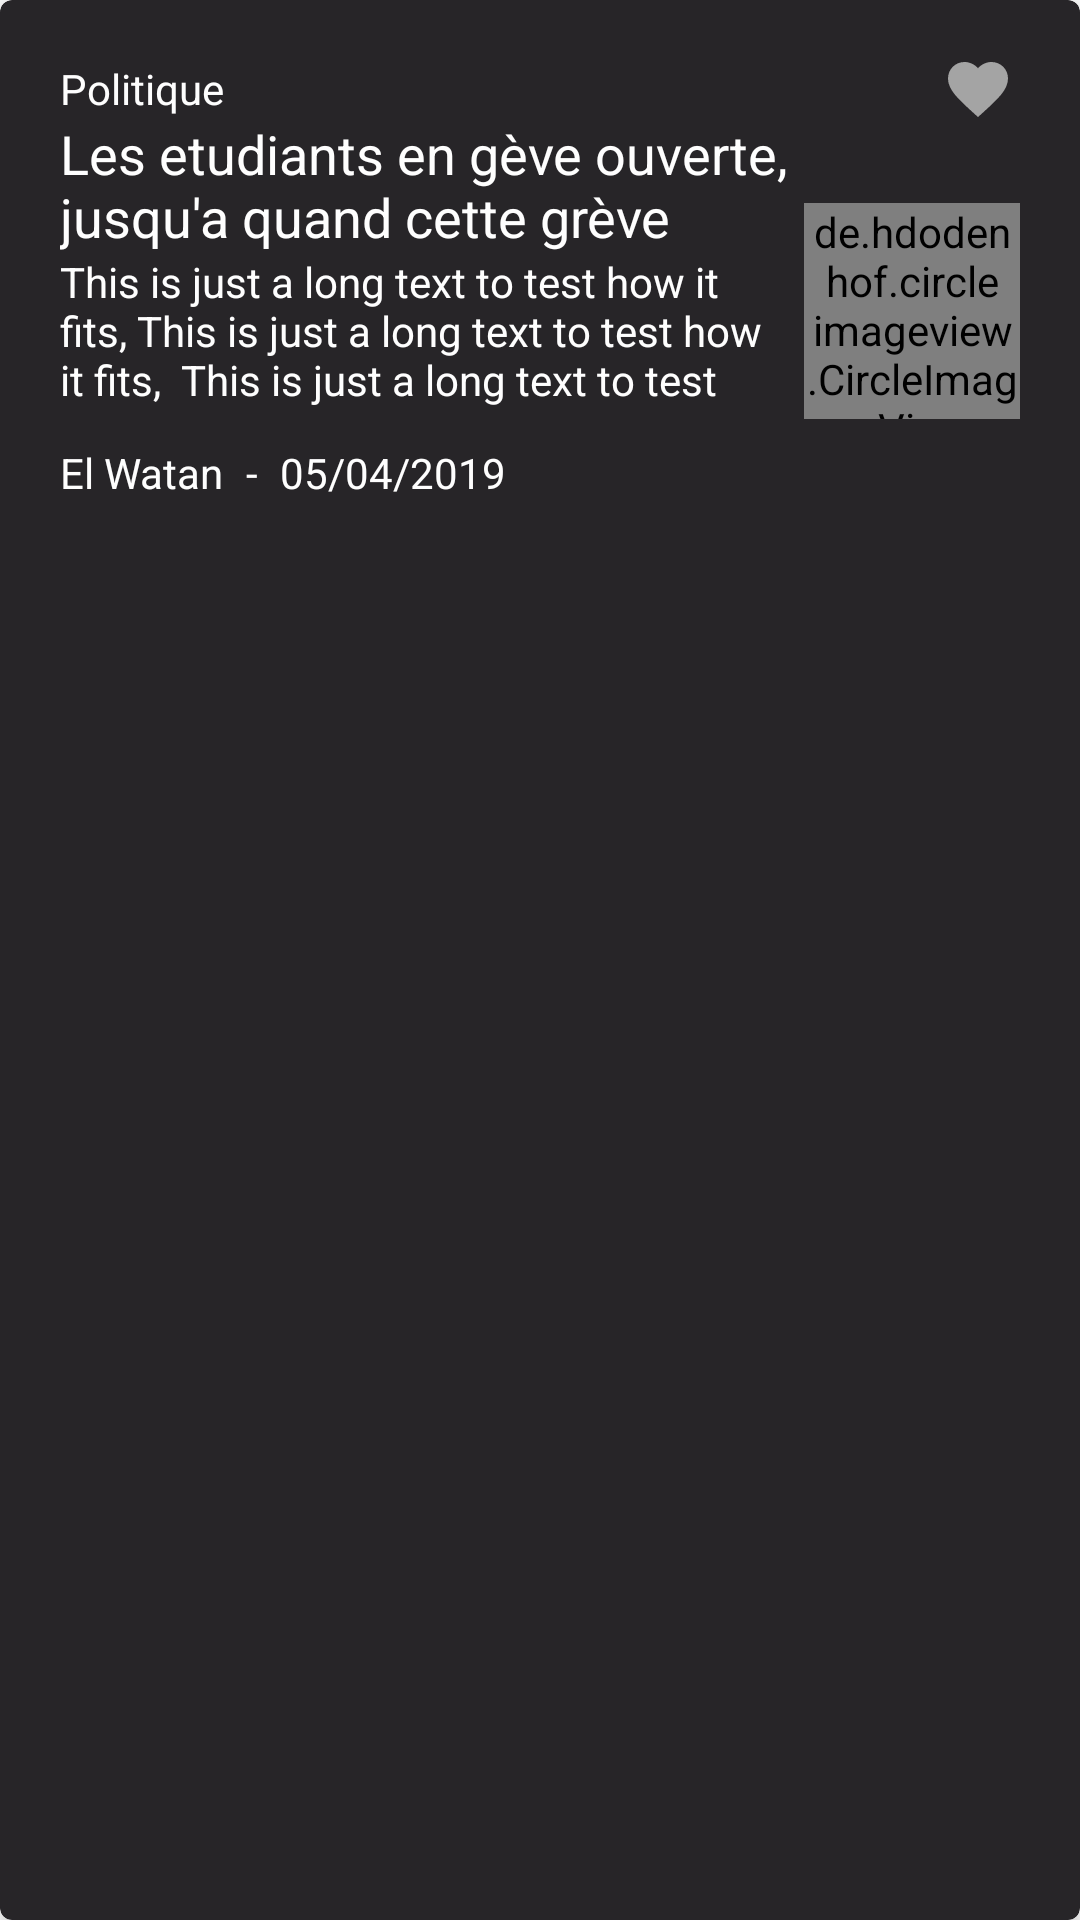

Icon click points for this 1080 x 1920 phone screenshot, format (x=x, y=y):
favorite: (x=978, y=89)
